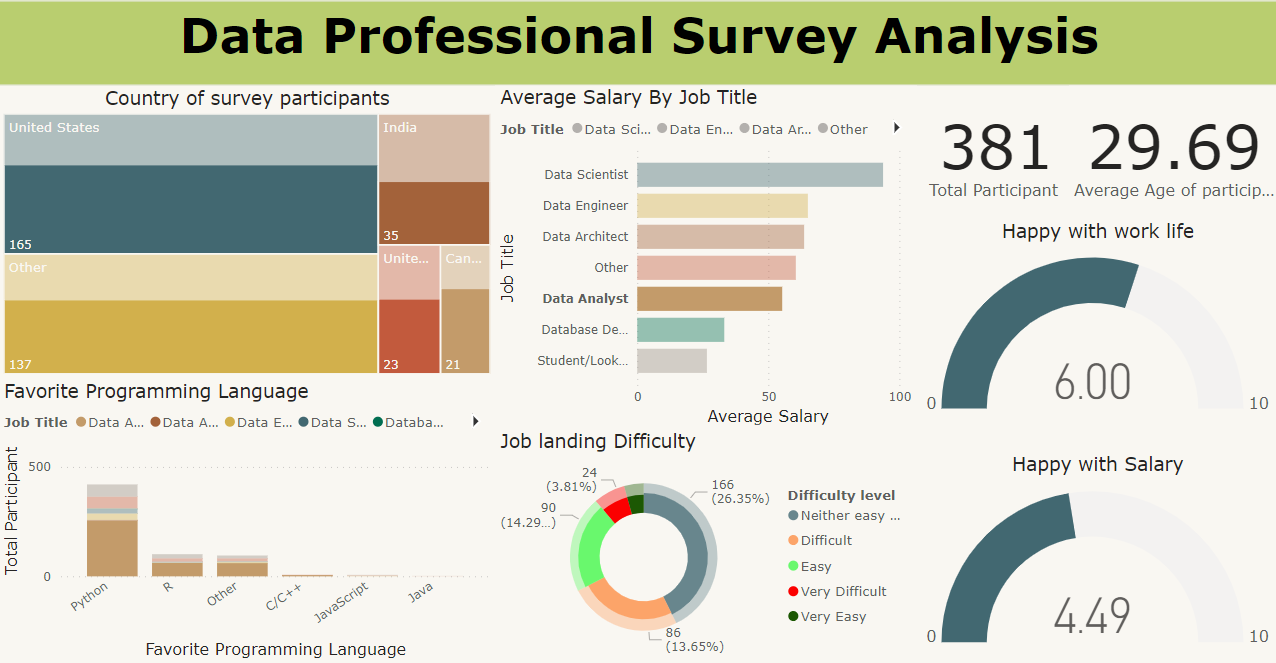

The dashboard page shown, as its layout file describes it:
{"tool":"powerbi","page":{"name":"Page 1","canvas":[1280,720],"ordinal":0},"visuals":[{"type":"textbox","box":[0,57.6,1280.3,85.1],"z":0},{"type":"card","fields":{"Values":["CountNonNull(Data Professional Survey.Unique ID)"]},"box":[917.8,143.7,160,132.3],"z":1000},{"type":"card","fields":{"Values":["Avg(Data Professional Survey.Q10 - Current Age)"]},"box":[1069.7,142.1,210.7,133.9],"z":2000},{"type":"barChart","title":"Average Salary By Job Title","fields":{"Category":["Data Professional Survey.Q1 - Which Title Best Fits your Current Role?.1"],"Y":["Avg(Data Professional Survey.AVG salary )"],"Series":["Data Professional Survey.Q1 - Which Title Best Fits your Current Role?.1"]},"box":[496.5,142.1,421.3,344.6],"z":3000},{"type":"columnChart","title":"Favorite Programming Language","fields":{"Category":["Data Professional Survey.Q5 - Favorite Programming Language.1"],"Y":["CountNonNull(Data Professional Survey.Unique ID)"],"Series":["Data Professional Survey.Q1 - Which Title Best Fits your Current Role?.1"]},"box":[0,436,496.5,284.2],"z":4000},{"type":"treemap","title":"Country of survey participants","fields":{"Group":["Data Professional Survey.Q11 - Which Country do you live in?.1"],"Values":["CountNonNull(Data Professional Survey.Q11 - Which Country do you live in?.1)"]},"box":[0,143.7,496.5,292.3],"z":5000},{"type":"gauge","title":"Happy with work life","fields":{"Y":["Avg(Data Professional Survey.Q6 - How Happy are you in your Current Position with the following? (Work/Life Balance))"],"MinValue":["Min(Data Professional Survey.Q6 - How Happy are you in your Current Position with the following? (Work/Life Balance))"],"MaxValue":["Max(Data Professional Survey.Q6 - How Happy are you in your Current Position with the following? (Work/Life Balance))"]},"box":[917.8,276,362.5,210.7],"z":6000},{"type":"gauge","title":"Happy with Salary","fields":{"Y":["Avg(Data Professional Survey.Q6 - How Happy are you in your Current Position with the following? (Salary))"],"MinValue":["Min(Data Professional Survey.Q6 - How Happy are you in your Current Position with the following? (Salary))"],"MaxValue":["Max(Data Professional Survey.Q6 - How Happy are you in your Current Position with the following? (Salary))"]},"box":[917.8,509.5,362.5,210.7],"z":7000},{"type":"donutChart","title":"Job landing Difficulty","fields":{"Category":["Data Professional Survey.Q7 - How difficult was it for you to break into Data?"],"Y":["CountNonNull(Data Professional Survey.Q7 - How difficult was it for you to break into Data?)"]},"box":[496.5,486.7,421.3,233.5],"z":8000},{"type":"actionButton","box":[0,0,100,40],"z":9000}]}

Visuals, with their boxes on the page's 1280x720 design canvas (x1, y1, x2, y2). These are canvas units, not pixel positions in the 1276x663 screenshot, which may show the page scaled, cropped or inside an application window:
textbox: x1=0 y1=58 x2=1280 y2=143
card - CountNonNull(Data Professional Survey.Unique ID): x1=918 y1=144 x2=1078 y2=276
card - Avg(Data Professional Survey.Q10 - Current Age): x1=1070 y1=142 x2=1280 y2=276
"Average Salary By Job Title" barChart: x1=496 y1=142 x2=918 y2=487
"Favorite Programming Language" columnChart: x1=0 y1=436 x2=496 y2=720
"Country of survey participants" treemap: x1=0 y1=144 x2=496 y2=436
"Happy with work life" gauge: x1=918 y1=276 x2=1280 y2=487
"Happy with Salary" gauge: x1=918 y1=510 x2=1280 y2=720
"Job landing Difficulty" donutChart: x1=496 y1=487 x2=918 y2=720
actionButton: x1=0 y1=0 x2=100 y2=40
